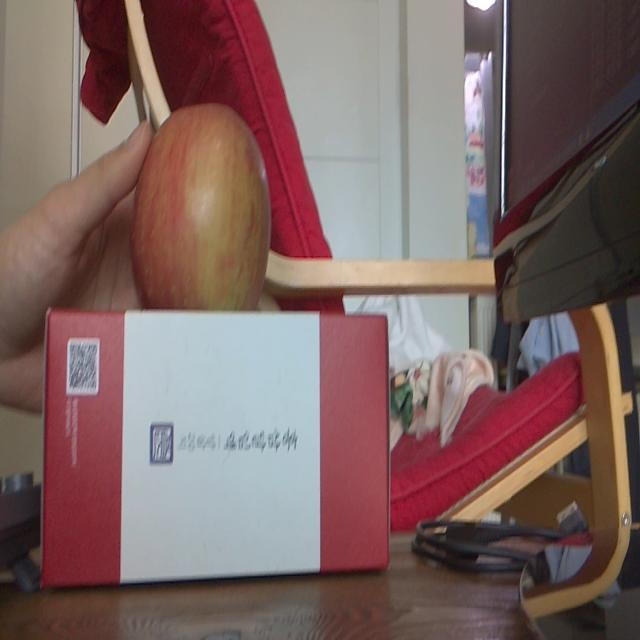apple: (132, 104, 272, 312)
